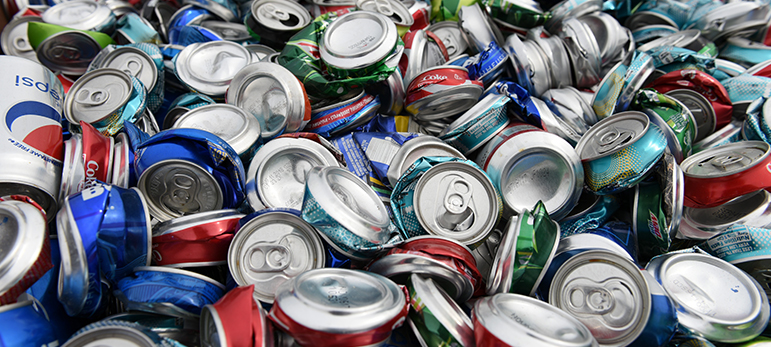can: (1, 2, 771, 347)
